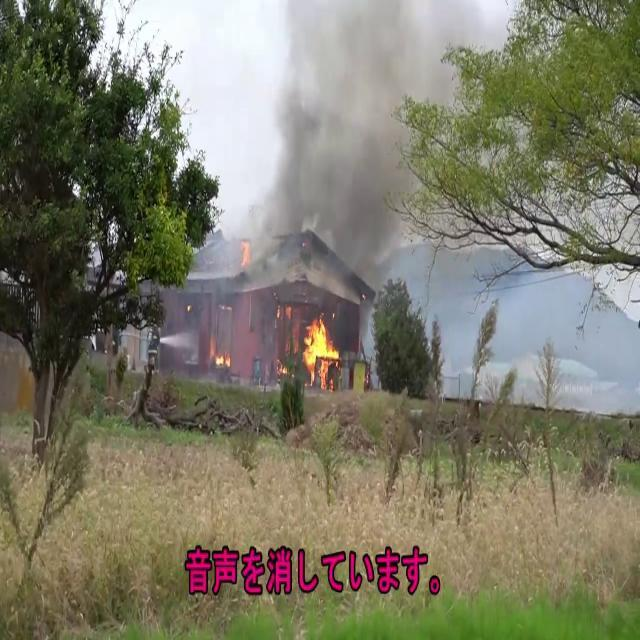Fire: (296, 308, 342, 385)
Smoke: (232, 0, 502, 293)
